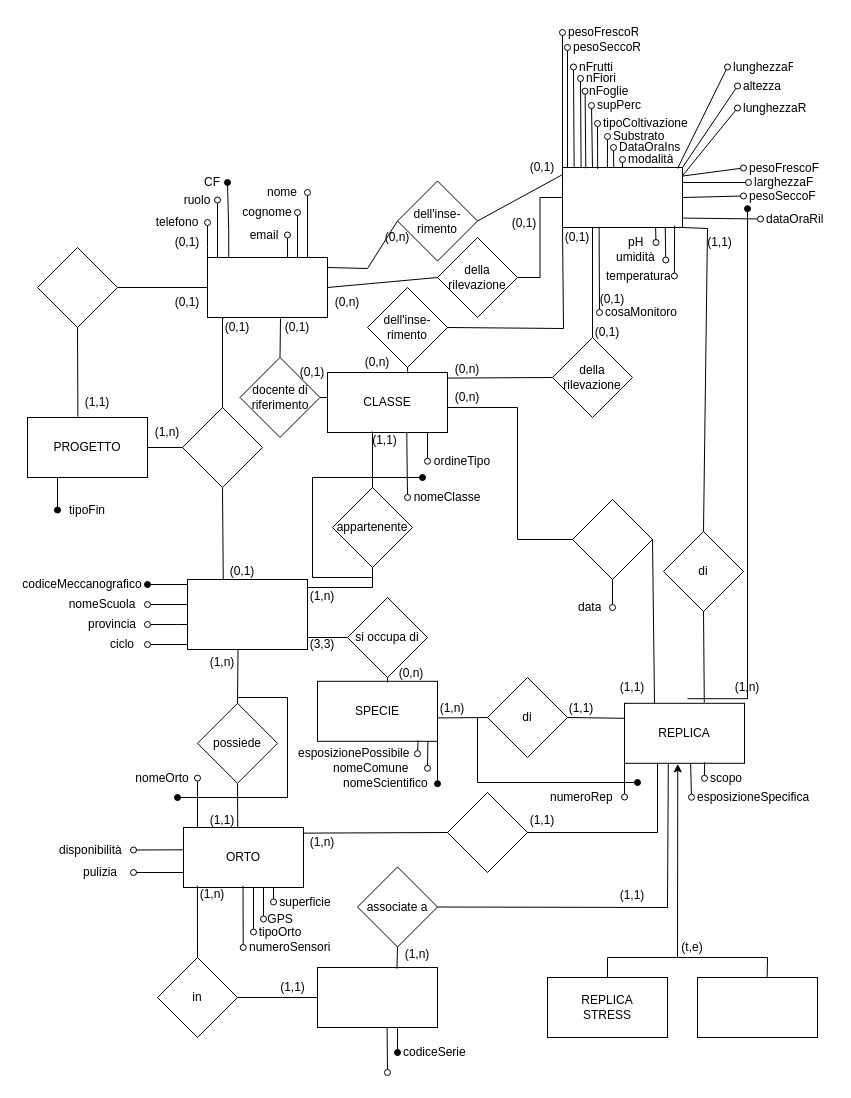
This 851x1098 diagram has some shape labels left out. The centre of each missing label's shape, as x and y in pixels:
"dislocato in" goes at (x=487, y=832).
"mette a dimora" goes at (x=612, y=539).
"partecipante" goes at (x=77, y=287).
"PERSONA" goes at (x=267, y=287).
"referente" goes at (x=222, y=447).
"REPLICA CONTROLO" goes at (x=757, y=1007).
"RILEVAZIONE" goes at (x=622, y=197).
"SCUOLA" goes at (x=247, y=614).
"SENSORE" goes at (x=377, y=997).
